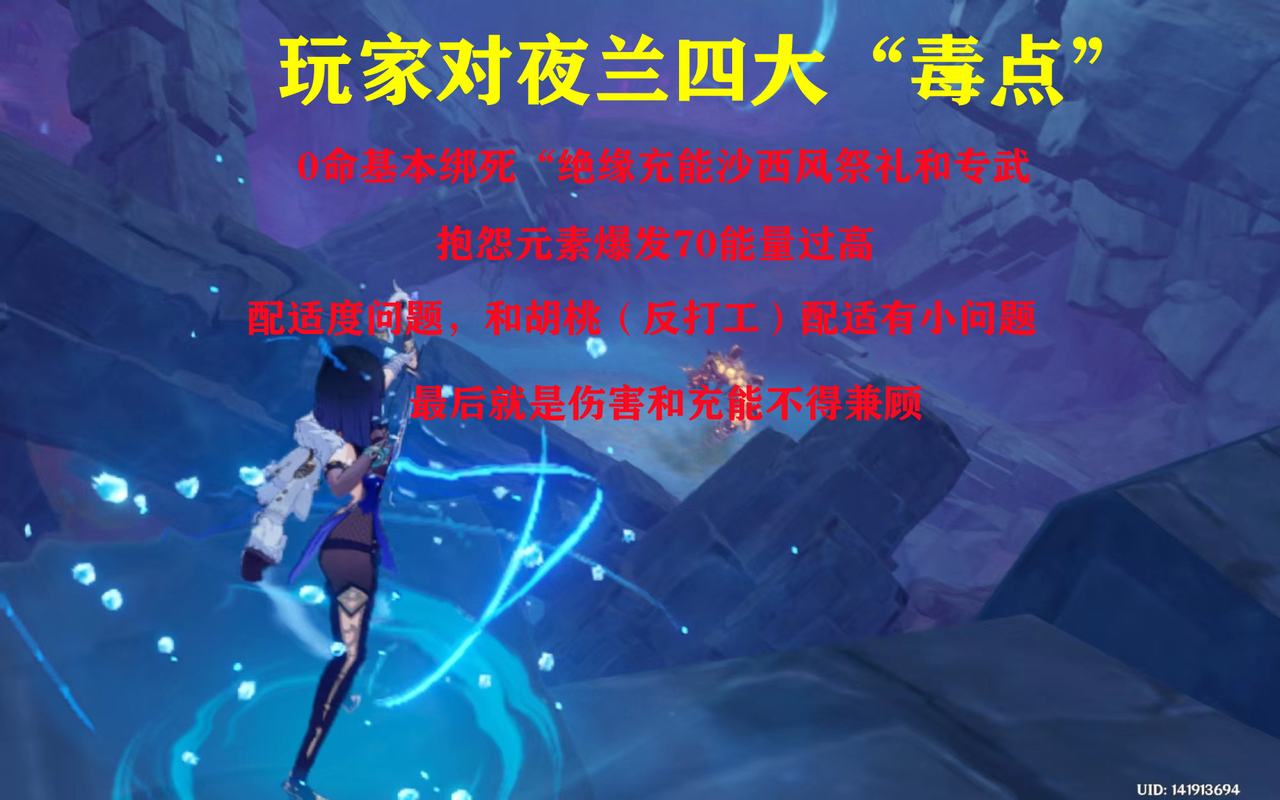夜兰: (258, 296, 402, 798)
